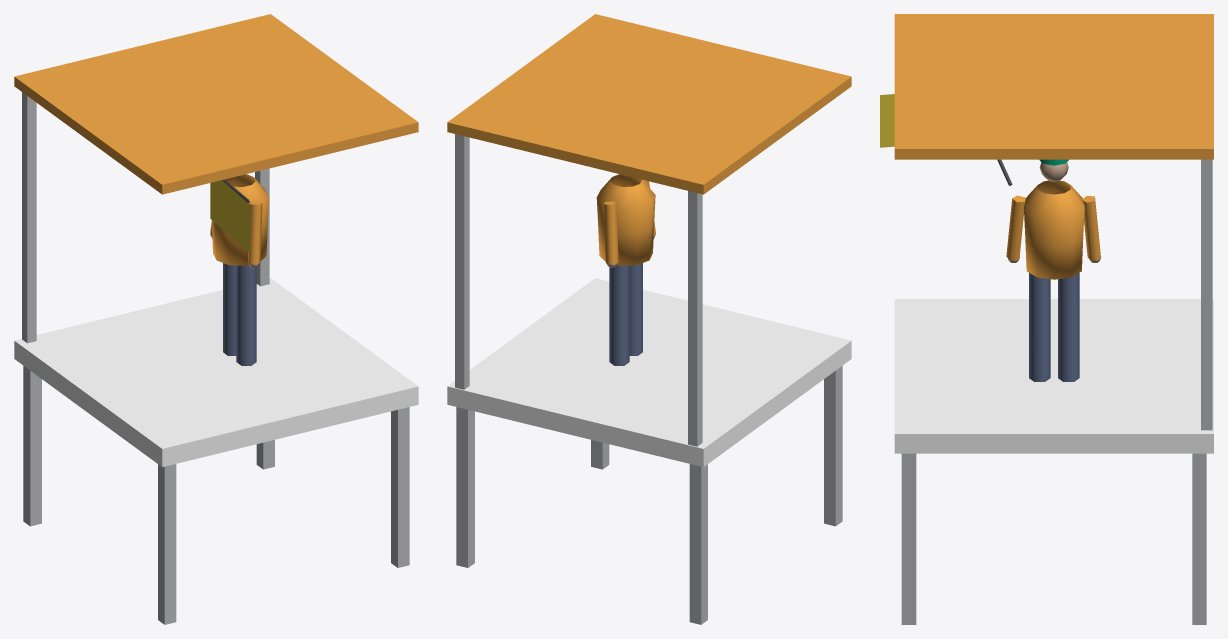
The model's file is SM_MarshalPost.fbx.
The picture shows the model from 3 angles, left to right: view 1: azimuth 30°, elevation 25°; view 2: azimuth 150°, elevation 25°; view 3: azimuth 270°, elevation 25°; orthographic projection. The views are drawn at different scales.
Parts seen in each view (by area): view 1: SM_MarshalPost; view 2: SM_MarshalPost; view 3: SM_MarshalPost.
Part boxes in pixels (left/top/right/bottom): SM_MarshalPost: left=14, top=14, right=418, bottom=624; SM_MarshalPost: left=447, top=14, right=851, bottom=624; SM_MarshalPost: left=880, top=14, right=1213, bottom=624.
Bounding box in the file's own units: 220 × 364 × 230.
